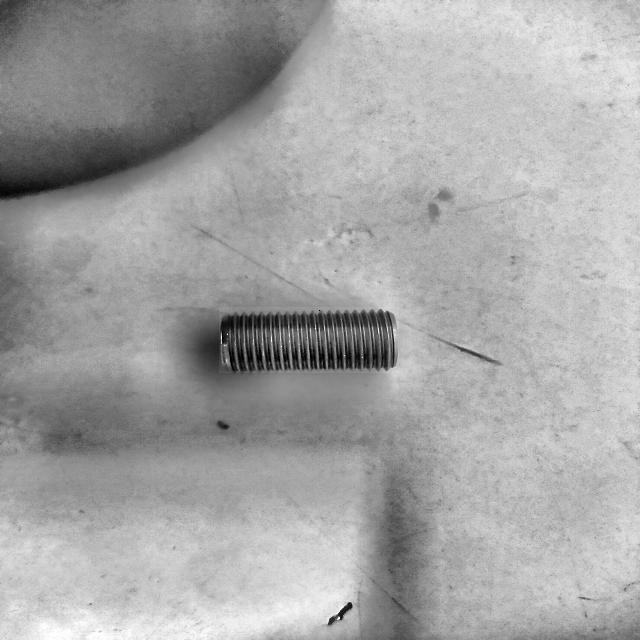Normal: (219, 307, 399, 373)
